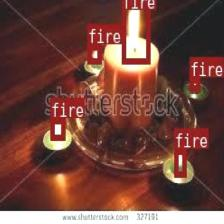fire: (121, 0, 149, 62), (173, 148, 186, 176), (50, 118, 65, 139), (87, 44, 101, 63), (189, 77, 199, 89)
